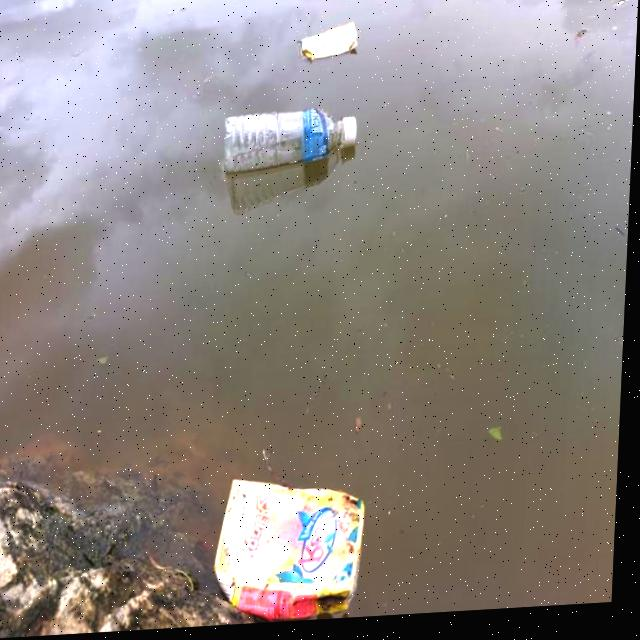paper: (218, 464, 399, 625), (307, 7, 368, 72)
waterbottle: (217, 93, 379, 192)
